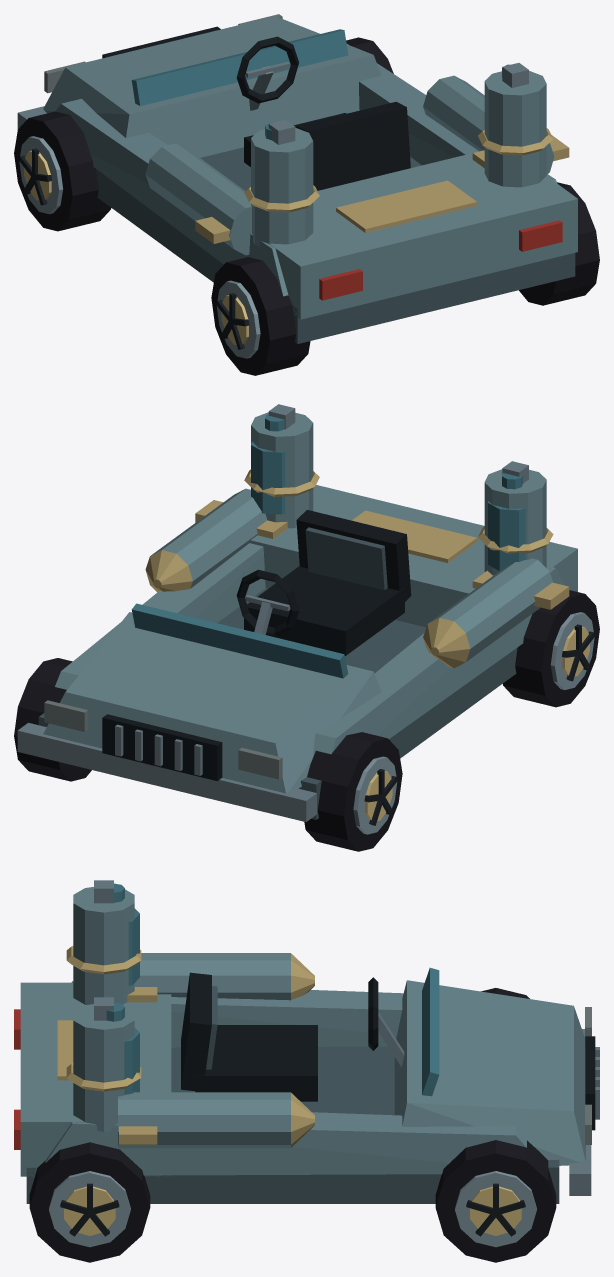
File: kart.glb
3 views of the same model, one above another, from view 1: azimuth 30°, elevation 25°; view 2: azimuth 150°, elevation 25°; view 3: azimuth 270°, elevation 25° (orthographic). The views are drawn at different scales.
Visible parts, largest first — view 1: identity-sedan-sedan-road-car-body, identity-sedan-motif-tanks, identity-sedan-motif-rocket, identity-sedan-driver-cockpit, wheel-front-left, wheel-rear-left, wheel-rear-right, wheel-front-right; view 2: identity-sedan-sedan-road-car-body, identity-sedan-driver-cockpit, identity-sedan-motif-rocket, identity-sedan-motif-tanks, wheel-front-left, wheel-rear-left, identity-sedan-motif-bottles, wheel-front-right; view 3: identity-sedan-sedan-road-car-body, identity-sedan-motif-rocket, identity-sedan-motif-tanks, identity-sedan-driver-cockpit, wheel-front-right, wheel-rear-right, identity-sedan-motif-bottles.
Part boxes in pixels (left/top/right/bottom): identity-sedan-sedan-road-car-body: left=17, top=14, right=577, bottom=343; identity-sedan-motif-tanks: left=244, top=63, right=553, bottom=246; identity-sedan-motif-rocket: left=145, top=75, right=569, bottom=255; identity-sedan-driver-cockpit: left=236, top=36, right=410, bottom=190; wheel-front-left: left=14, top=111, right=111, bottom=231; wheel-rear-left: left=211, top=257, right=310, bottom=375; wheel-rear-right: left=519, top=182, right=599, bottom=305; wheel-front-right: left=346, top=37, right=393, bottom=73; identity-sedan-sedan-road-car-body: left=17, top=485, right=577, bottom=821; identity-sedan-driver-cockpit: left=236, top=510, right=411, bottom=655; identity-sedan-motif-rocket: left=145, top=488, right=569, bottom=668; identity-sedan-motif-tanks: left=244, top=404, right=553, bottom=575; wheel-front-left: left=304, top=732, right=402, bottom=851; wheel-rear-left: left=503, top=590, right=599, bottom=707; identity-sedan-motif-bottles: left=251, top=414, right=525, bottom=570; wheel-front-right: left=14, top=658, right=91, bottom=781; identity-sedan-sedan-road-car-body: left=14, top=967, right=599, bottom=1203; identity-sedan-motif-rocket: left=118, top=953, right=314, bottom=1148; identity-sedan-motif-tanks: left=66, top=880, right=141, bottom=1131; identity-sedan-driver-cockpit: left=181, top=972, right=404, bottom=1101; wheel-front-right: left=435, top=1140, right=556, bottom=1262; wheel-rear-right: left=29, top=1142, right=150, bottom=1262; identity-sedan-motif-bottles: left=106, top=883, right=139, bottom=1094.
Bounding box in the file's own units: 2.1 × 1.3 × 2.92.
